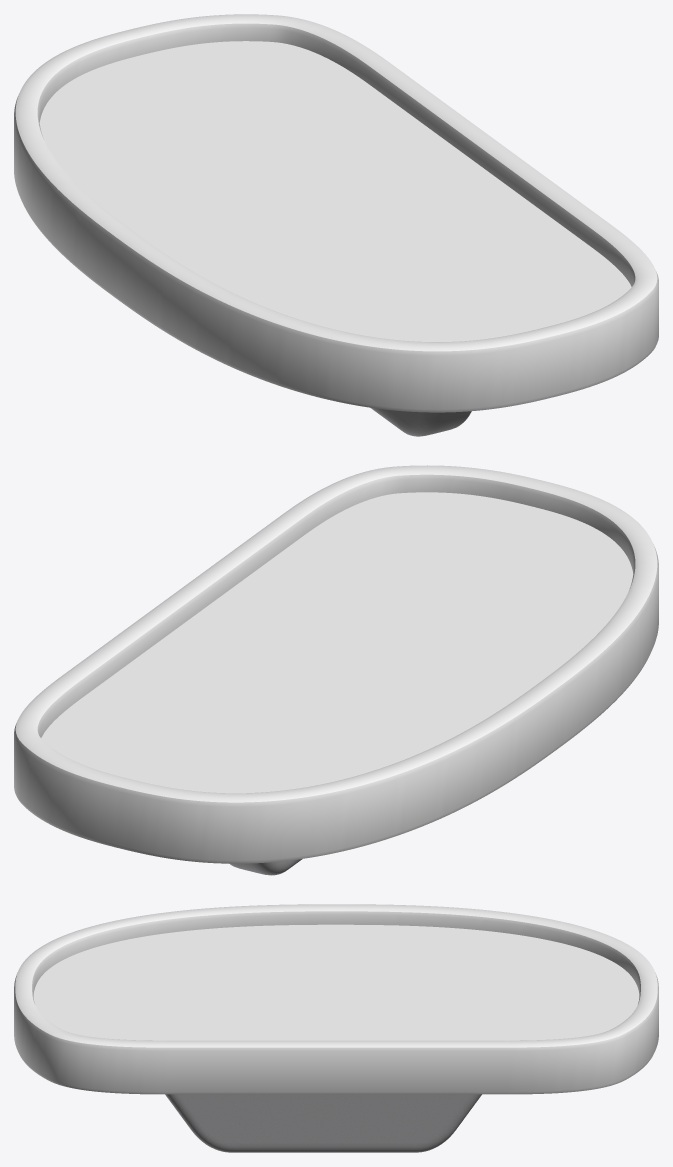
File: tray_iu_lod0.glb
3 renders of one model, top to bottom at view 1: azimuth 30°, elevation 25°; view 2: azimuth 150°, elevation 25°; view 3: azimuth 270°, elevation 25°, orthographic. The views are drawn at different scales.
Parts seen in each view (by area): view 1: tray_iu; view 2: tray_iu; view 3: tray_iu.
Part boxes in pixels (<box>): tray_iu: <box>14,14,658,436</box>; tray_iu: <box>14,465,658,875</box>; tray_iu: <box>14,904,658,1152</box>.
Size of the model in its own units: 0.0265 by 0.0132 by 0.05.
Materials: 2 (1 with a texture image).
